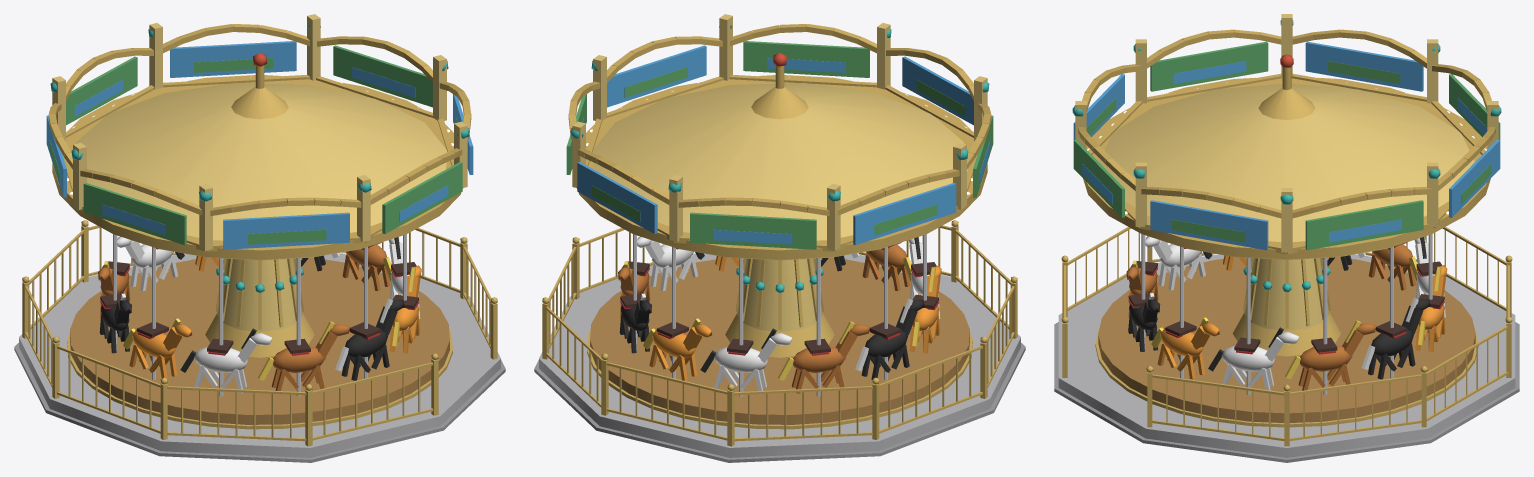
The picture shows the model from 3 angles, left to right: view 1: azimuth 30°, elevation 25°; view 2: azimuth 150°, elevation 25°; view 3: azimuth 270°, elevation 25°; orthographic projection.
Parts seen in each view (by area): view 1: rotor, base, lift0, lift1, lift2; view 2: rotor, base, lift2, lift0, lift1; view 3: rotor, base, lift1, lift2, lift0.
Boxes of the visible parts, x1,y1,x2,y2 form: rotor: (46, 14, 473, 429); base: (14, 220, 505, 462); lift0: (117, 236, 404, 380); lift1: (98, 253, 421, 393); lift2: (99, 237, 420, 390); rotor: (566, 14, 993, 429); base: (534, 220, 1025, 462); lift2: (637, 236, 924, 380); lift0: (618, 253, 941, 390); lift1: (619, 237, 940, 393); rotor: (1072, 14, 1501, 427); base: (1054, 227, 1519, 462); lift1: (1145, 236, 1429, 379); lift2: (1126, 252, 1447, 390); lift0: (1128, 236, 1445, 390).
Bounding box in the file's own units: 8.56 × 5.89 × 8.14.
